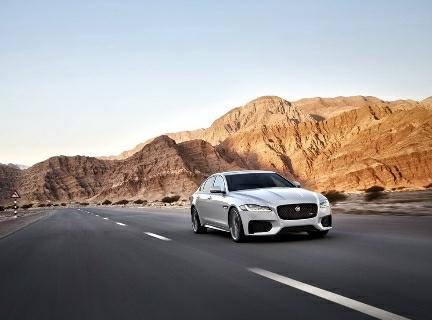捷豹-XF: (184, 167, 338, 245)
